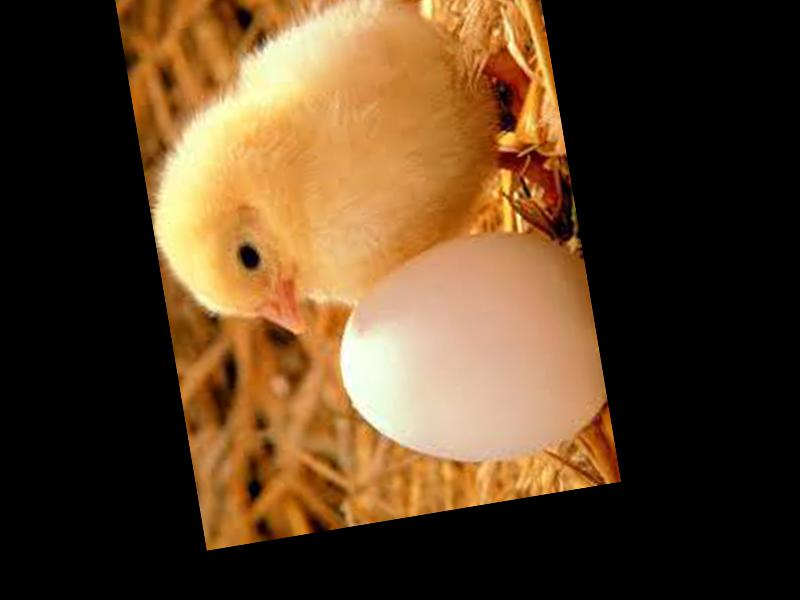Eggs: (321, 216, 614, 483)
